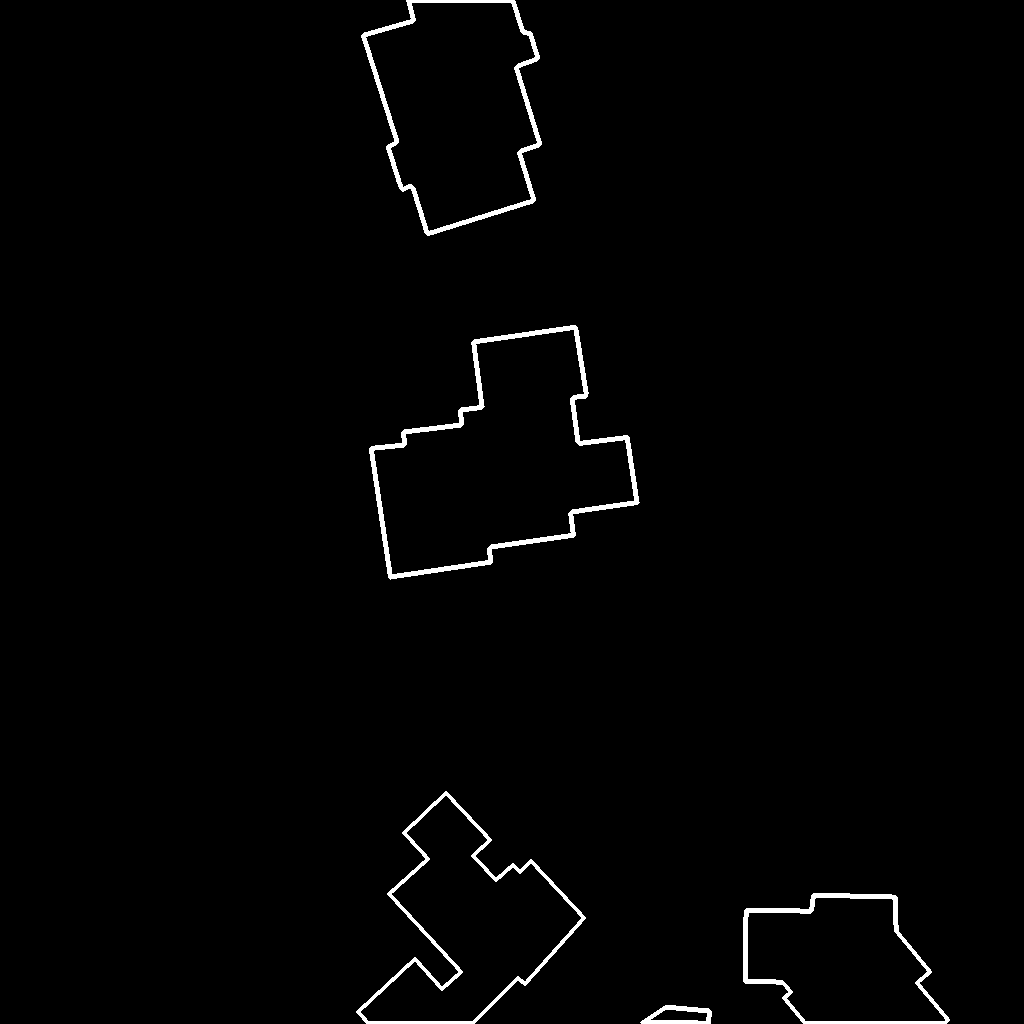building: (371, 327, 638, 578), (358, 793, 585, 1024), (363, 0, 541, 235), (745, 895, 949, 1024), (642, 1007, 711, 1024)
